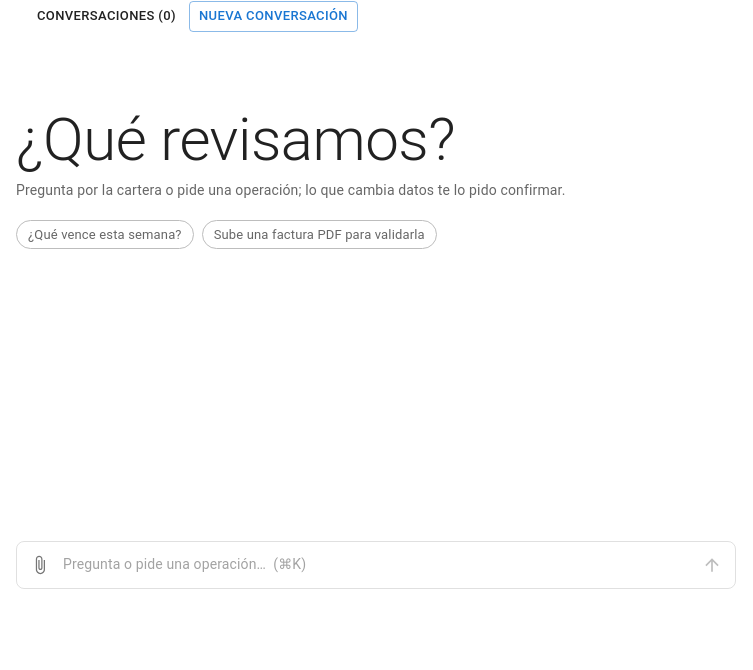
Test: AssistantPage › AC-011-09 un alta propuesta no escribe nada hasta Confirmar y el asistente propone la siguiente después
Type "Revísalo" into the text box named "Mensaje" at [376, 565], box [63,554,689,576]
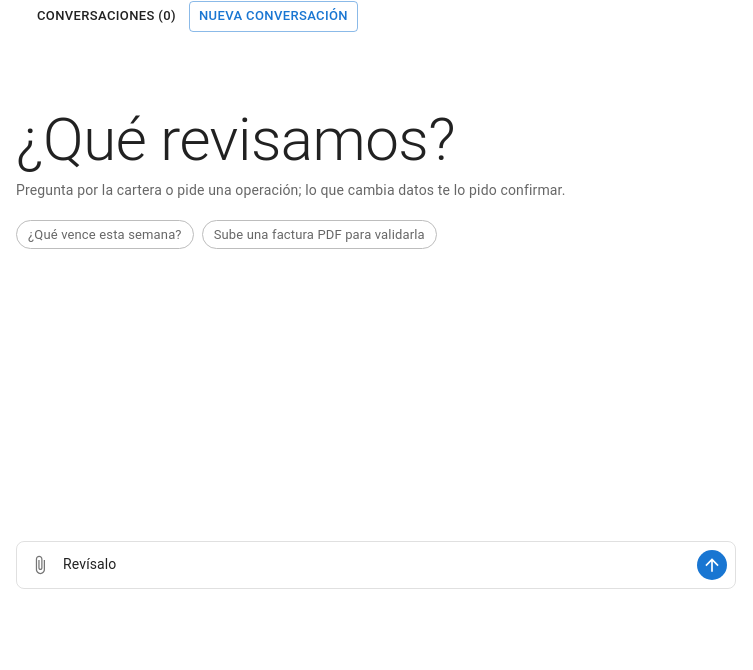
Click the button named "Enviar" at [712, 565], box [697,550,727,580]
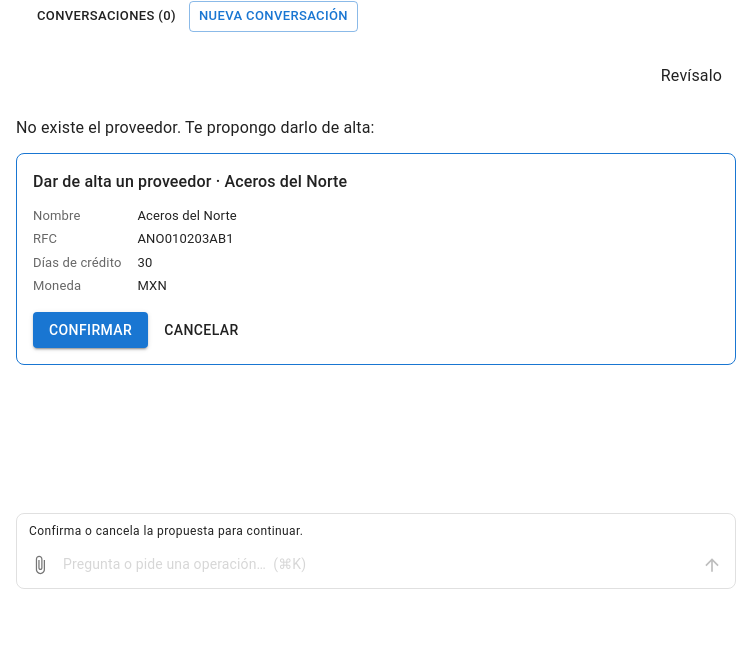
Result: the element named "Propuesta: Dar de alta un proveedor" is shown at [16,153,736,365]
Click the button "Confirmar" at [91, 330], box [33,312,148,348]
(page scrolled)
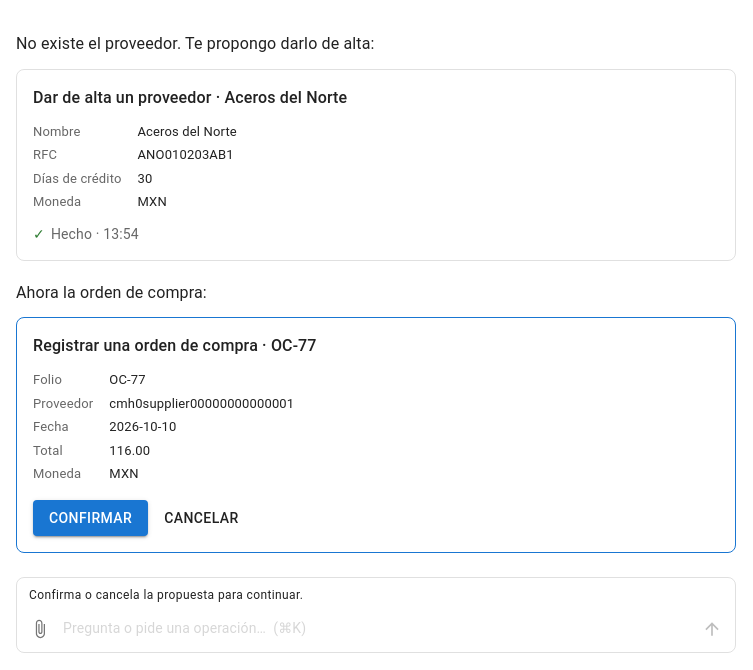
Result: the number of buttons "Confirmar" is 1 at [33,500,148,536]
Result: the element named "Propuesta: Registrar una orden de compra" is shown at [16,317,736,553]
